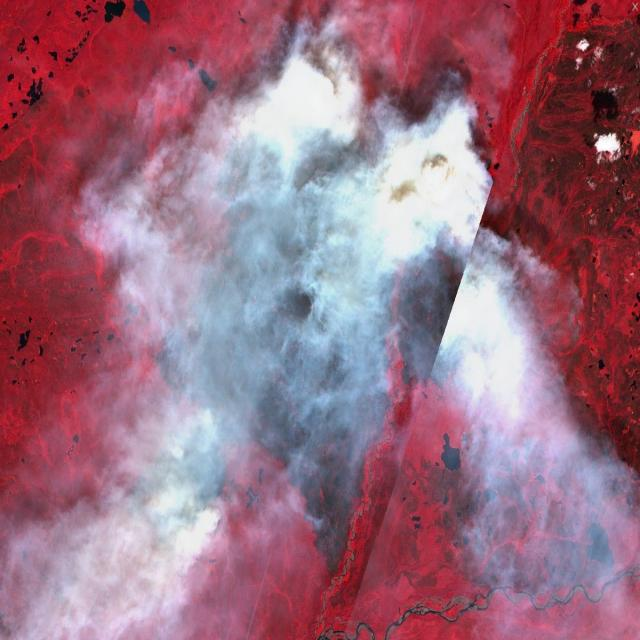fire: (203, 80, 483, 255), (112, 400, 235, 549)
